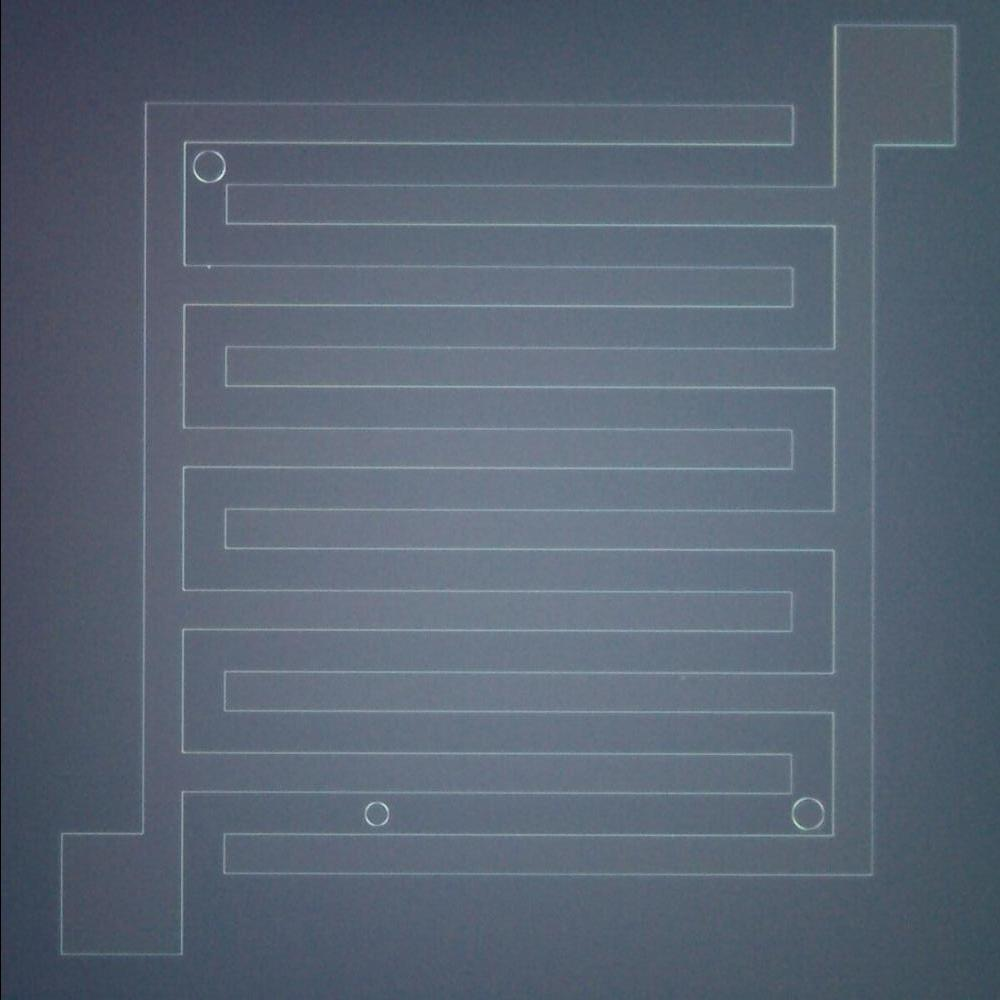circle: (189, 147, 227, 185), (788, 796, 826, 832), (360, 800, 390, 829)
